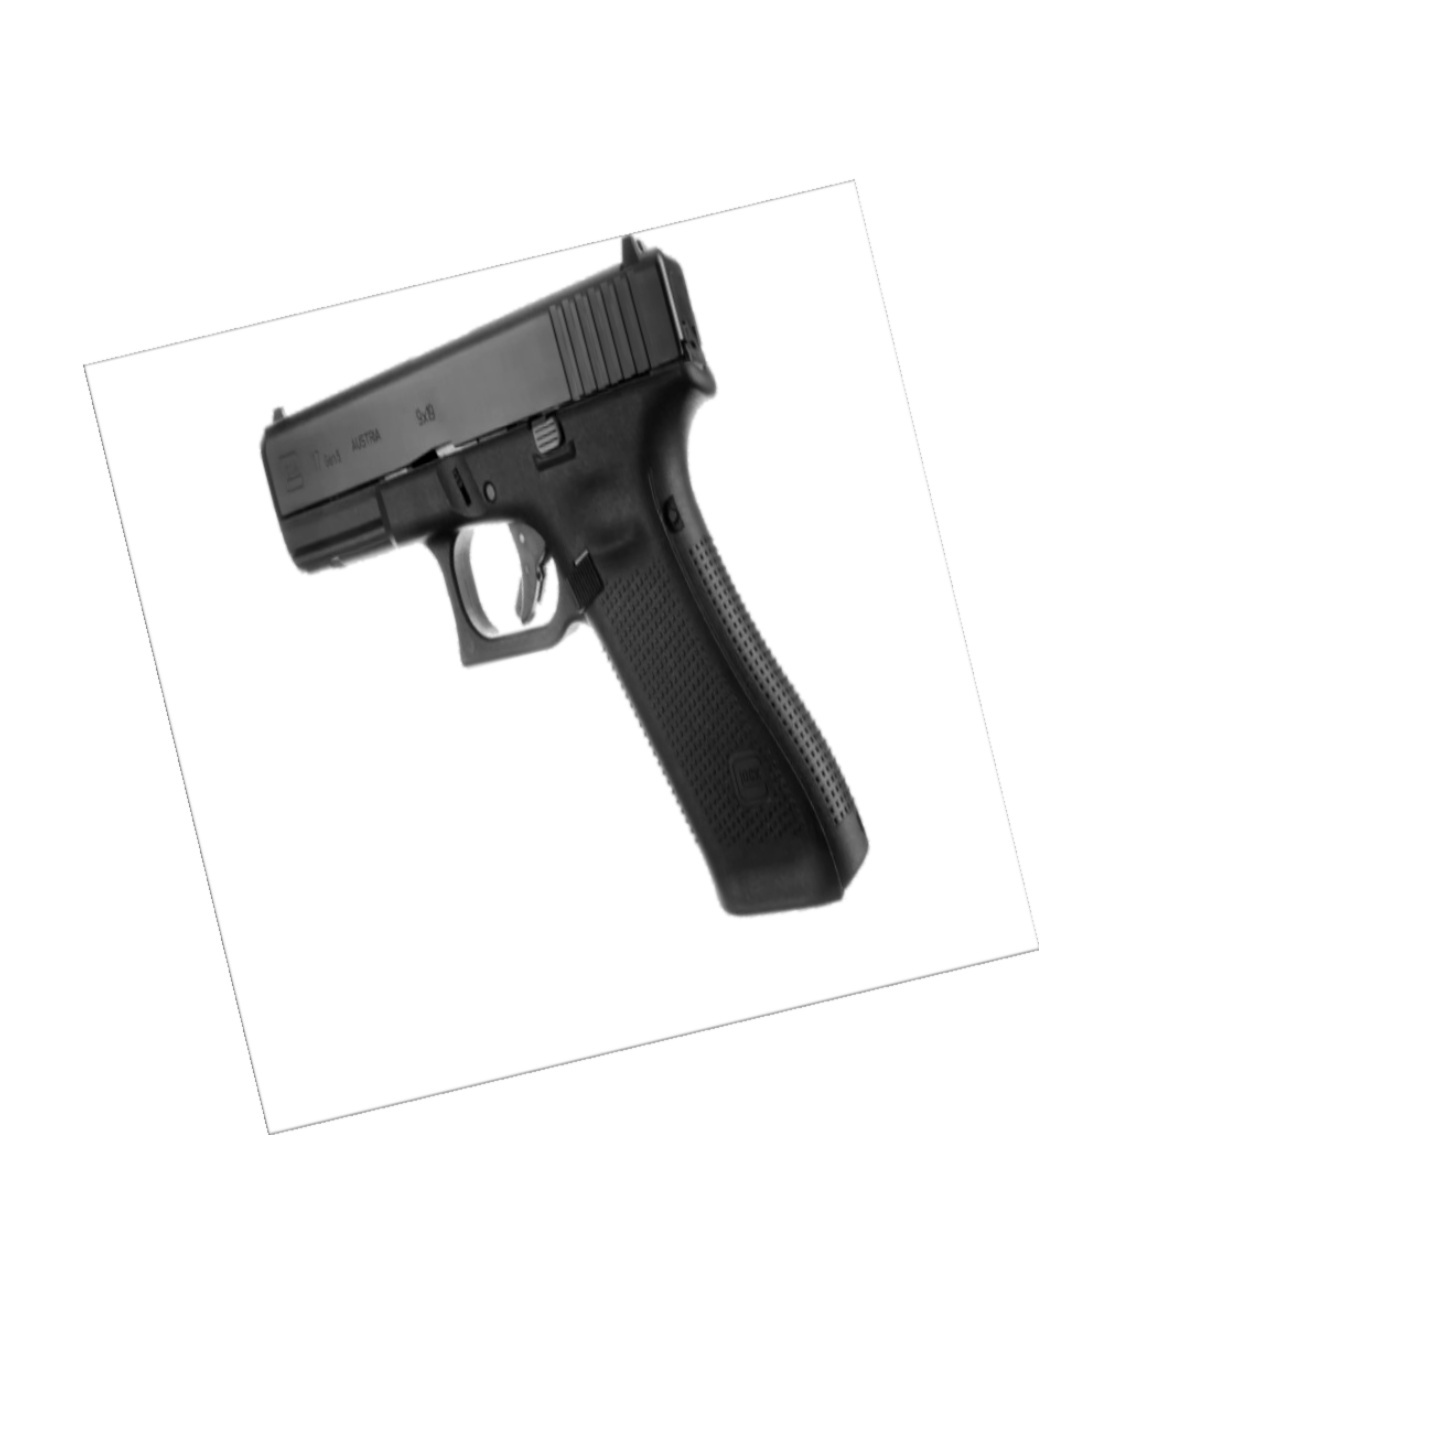gun: (258, 226, 876, 924)
